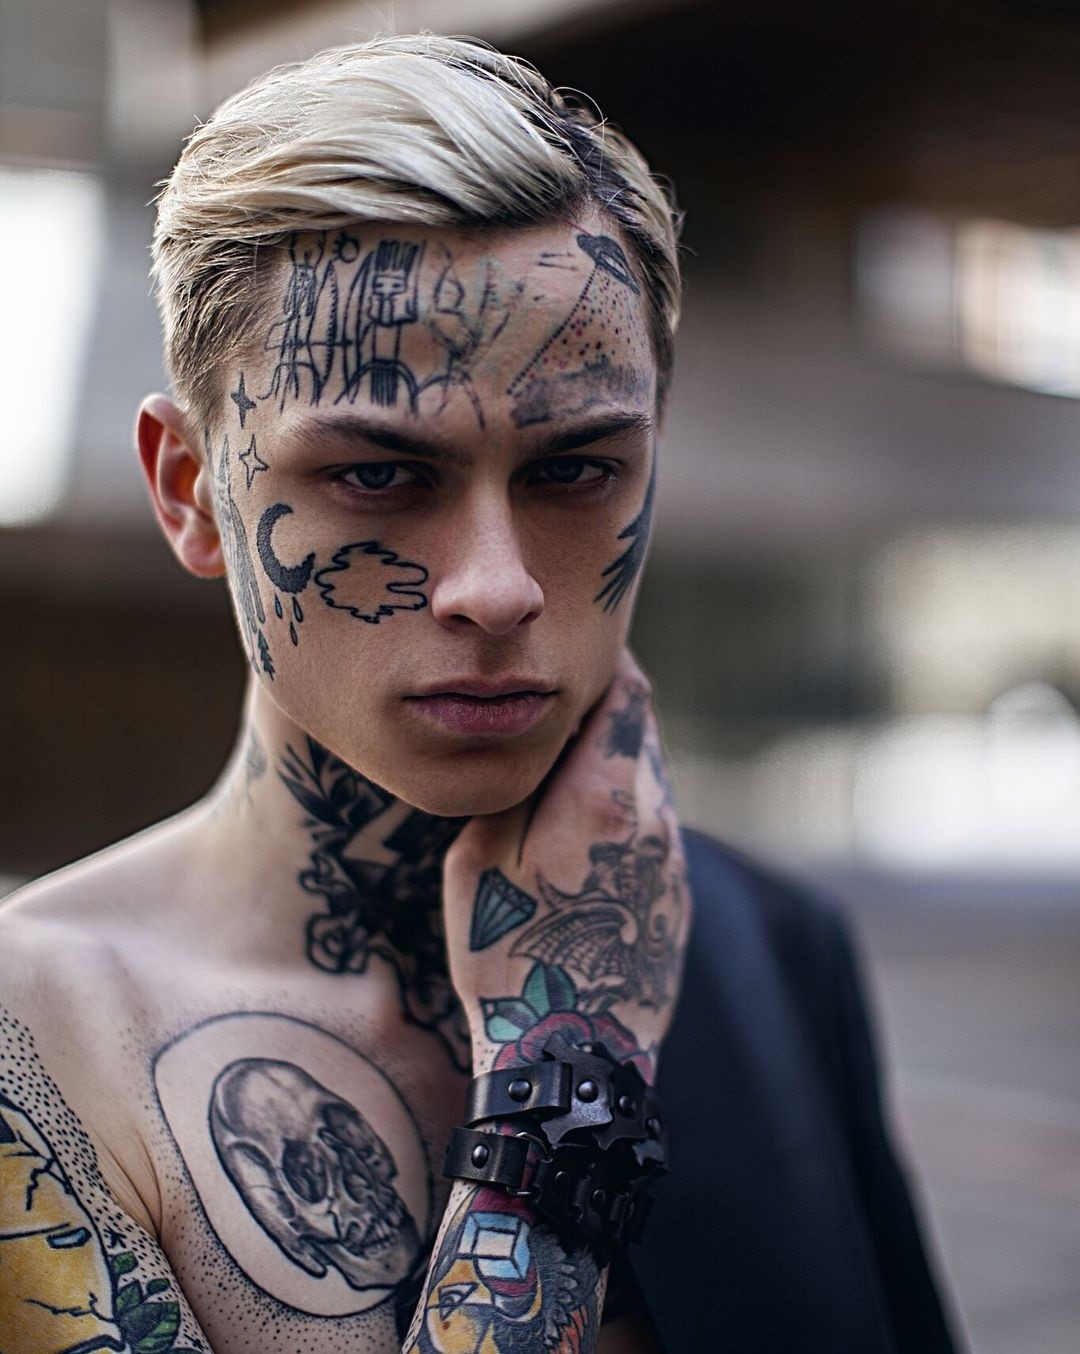face_no_mask: (129, 29, 681, 822)
